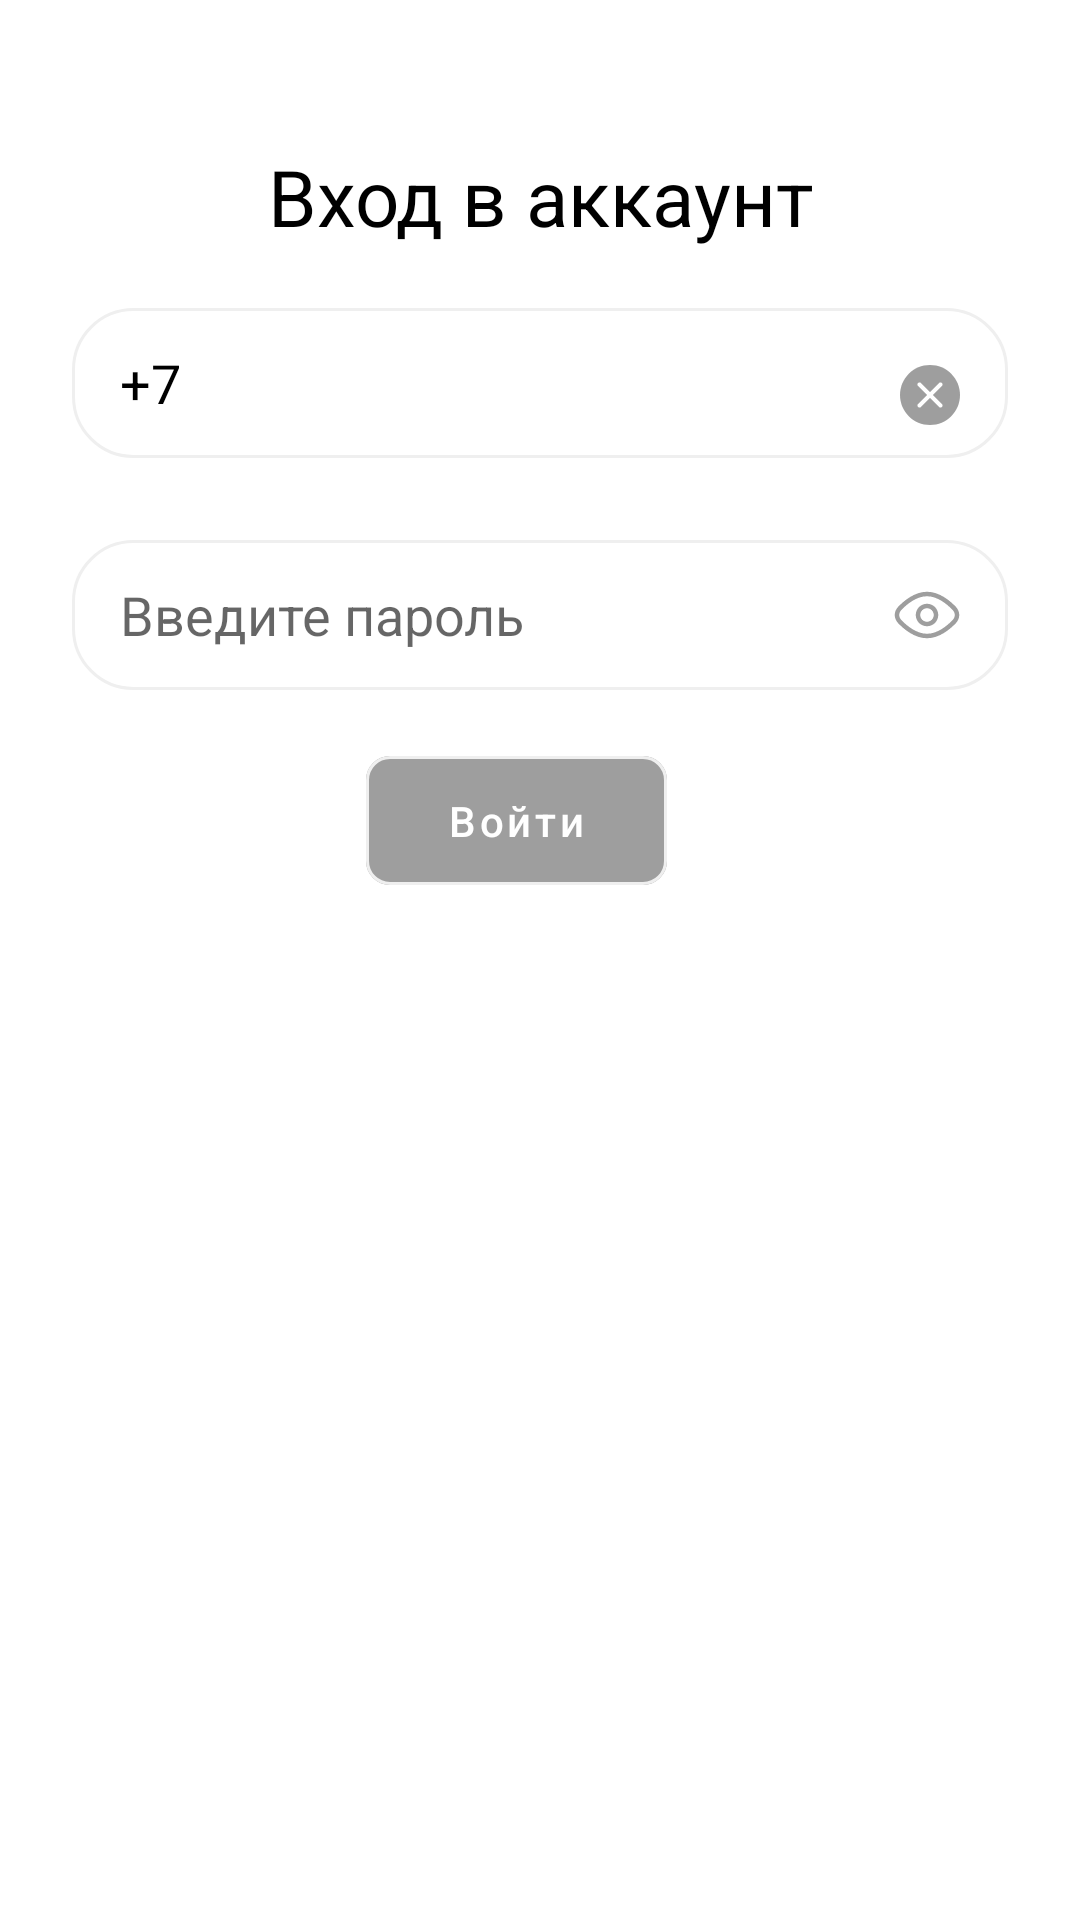

Named icons in this screenshot (1080px x 1920px) and their centers, (x=x, y=y):
clear phone: (x=930, y=395)
show password: (x=927, y=615)
